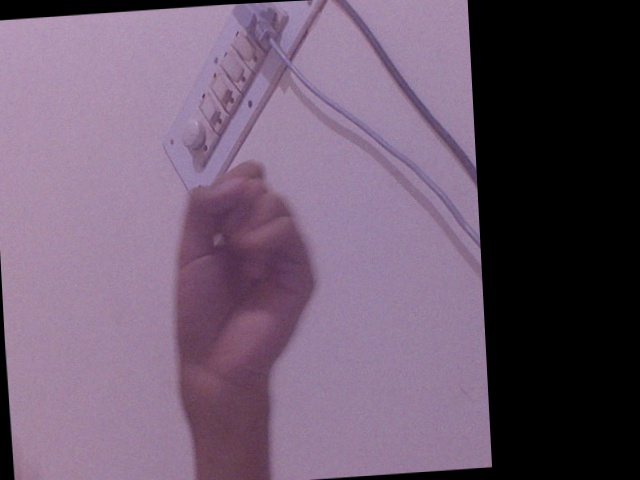hand: (170, 157, 319, 417)
